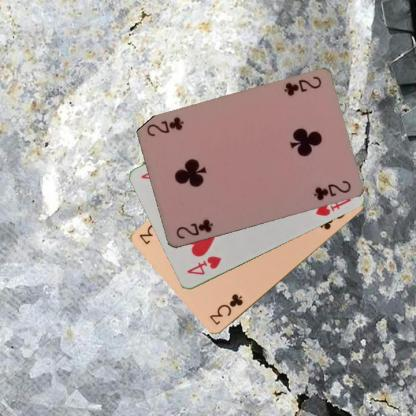2c: (281, 74, 322, 98), (174, 217, 214, 241)
3c: (206, 291, 244, 327)
4h: (184, 254, 222, 276)
